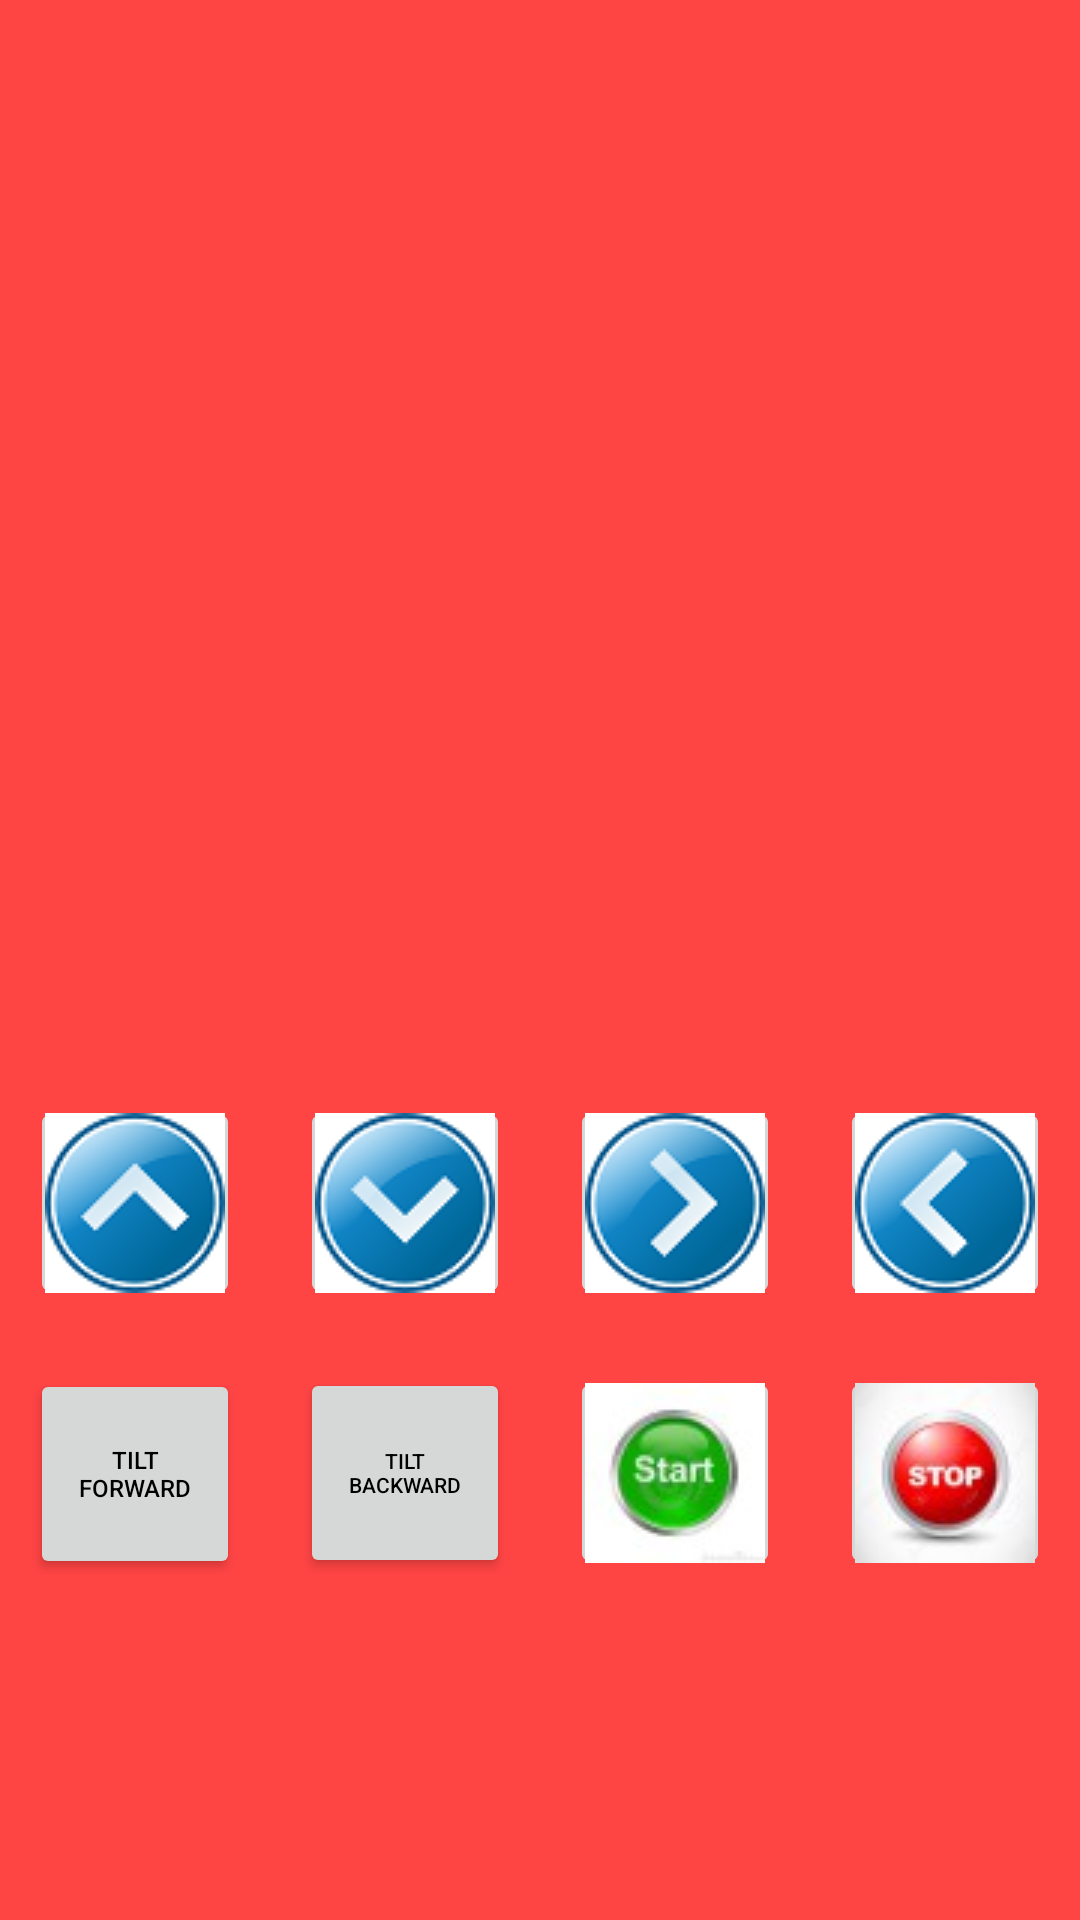

Icons on this 1080w x 1920h Android screen, each with its box as [left=x1, top=y1, right=x2, bottom=y2]:
down: [left=312, top=1113, right=498, bottom=1293]
